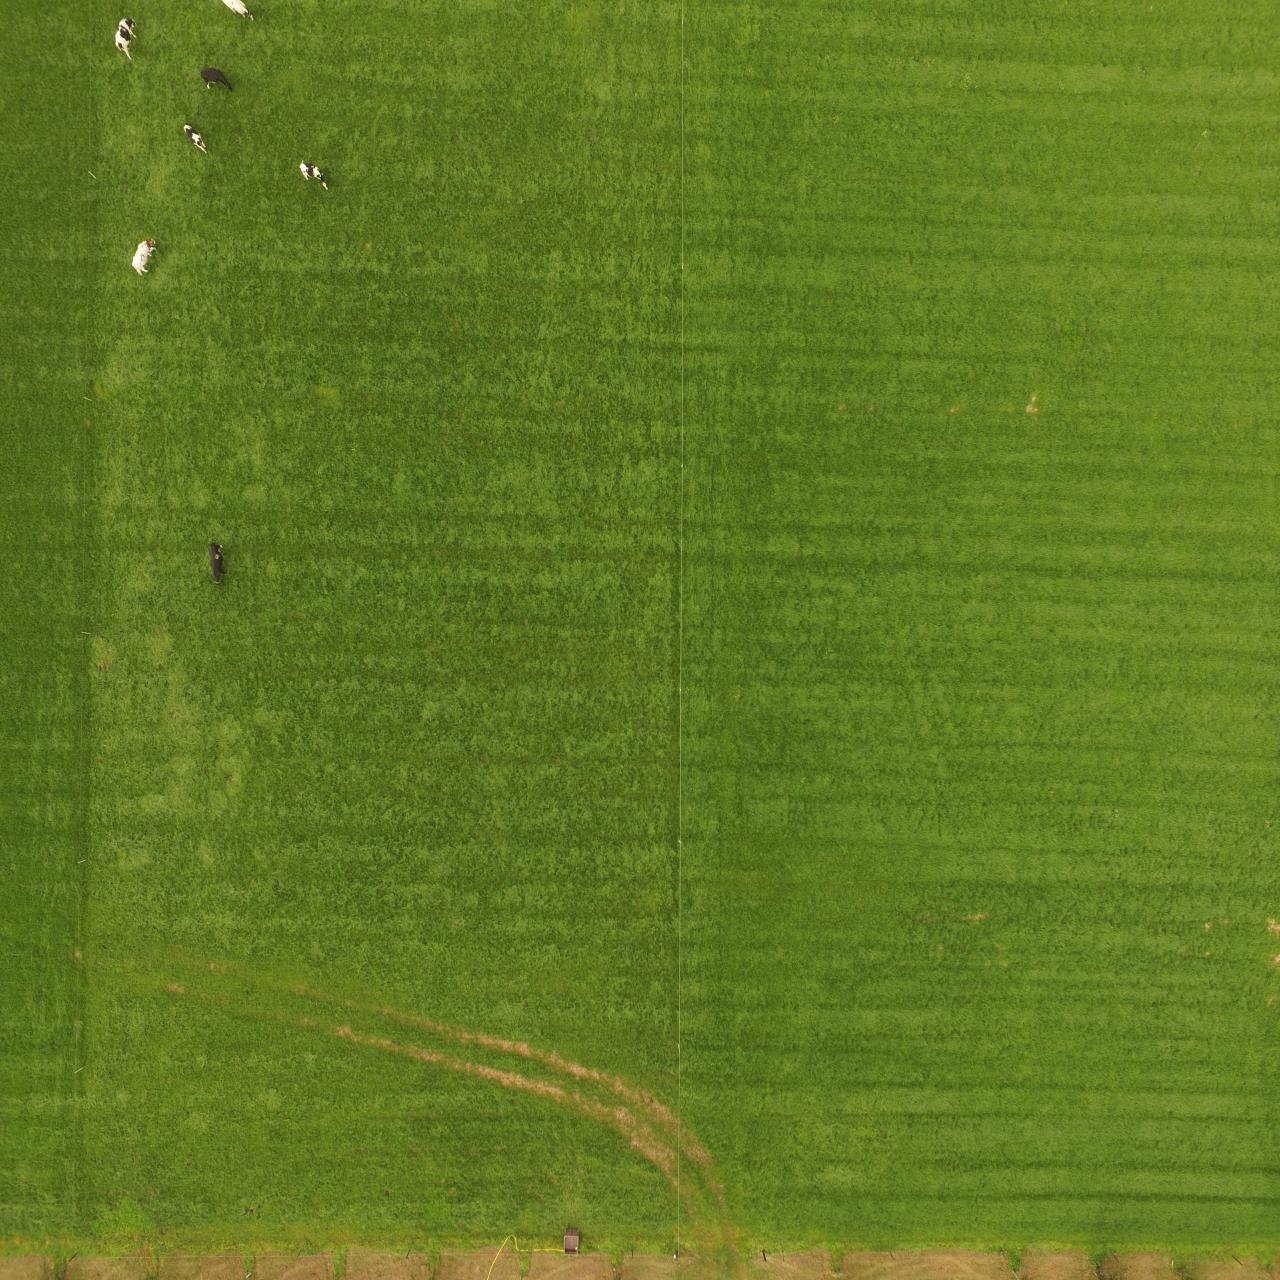cow: (108, 14, 138, 67), (197, 62, 234, 96), (298, 156, 328, 192), (131, 238, 157, 279), (182, 121, 210, 156)
